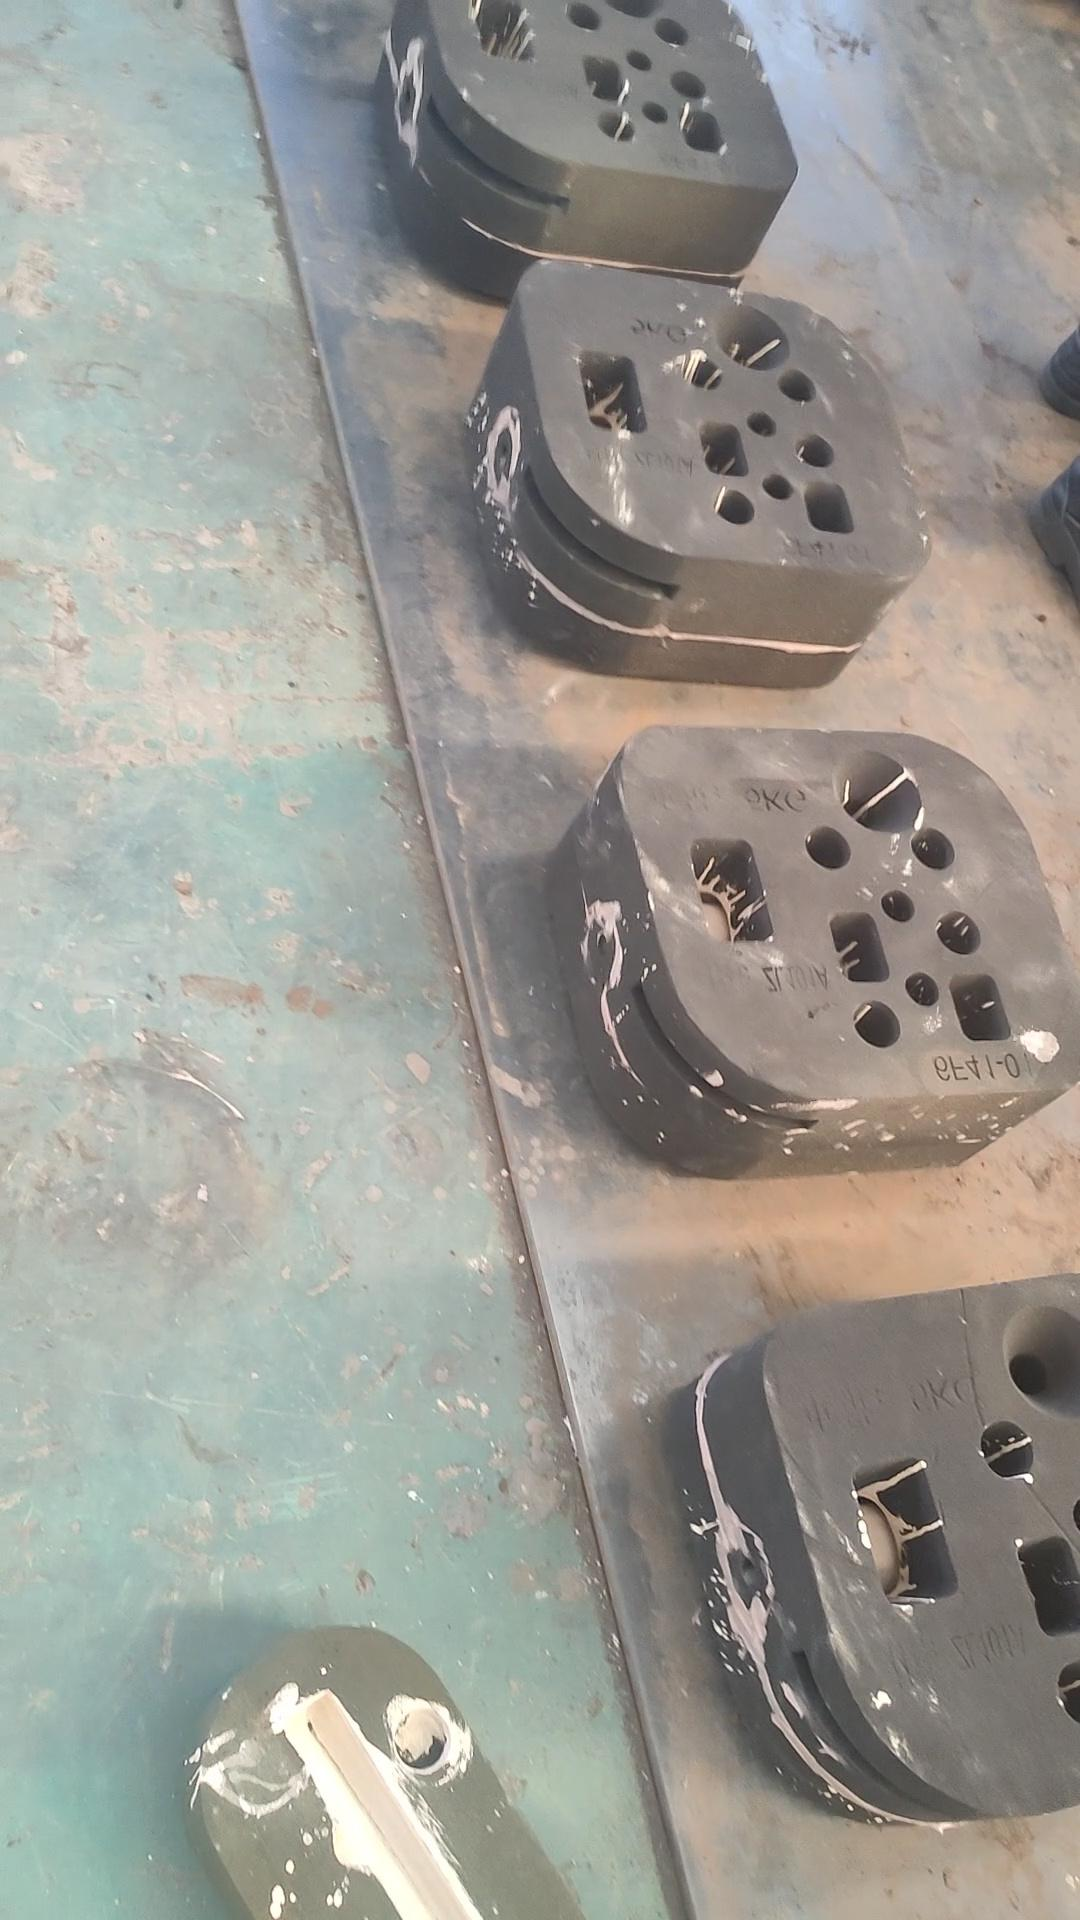pouring hole: (1002, 1303, 1080, 1420), (831, 746, 922, 833), (711, 299, 791, 372), (601, 1, 666, 18)
